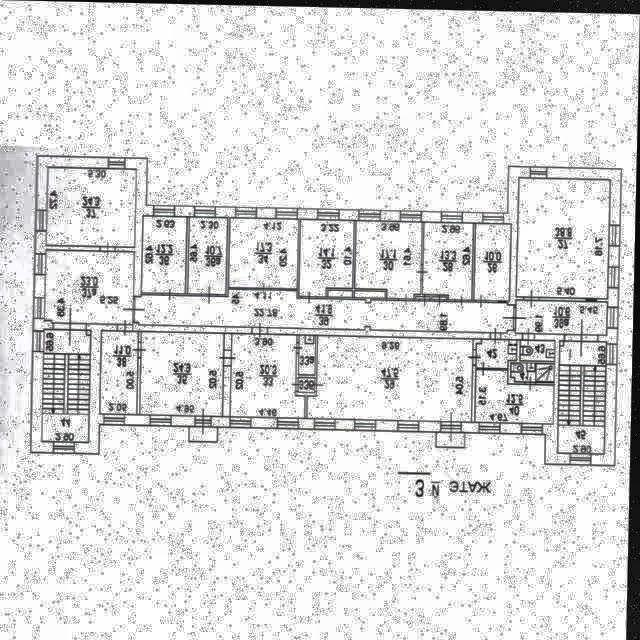room: (136, 286, 516, 331), (310, 334, 475, 420), (518, 175, 611, 295), (143, 331, 226, 414), (48, 167, 136, 245), (232, 332, 308, 416), (47, 250, 135, 322), (559, 338, 608, 452), (45, 329, 91, 443), (356, 219, 423, 297), (229, 216, 299, 288), (300, 218, 355, 296), (477, 367, 556, 421), (424, 220, 474, 297), (142, 216, 188, 291), (102, 330, 140, 414), (517, 298, 608, 333), (475, 220, 512, 298), (190, 216, 228, 291), (478, 337, 518, 366), (512, 360, 556, 380), (522, 338, 556, 359), (300, 334, 317, 374), (192, 426, 219, 439), (440, 431, 467, 443), (300, 377, 316, 391), (433, 295, 448, 298), (417, 294, 431, 297)
